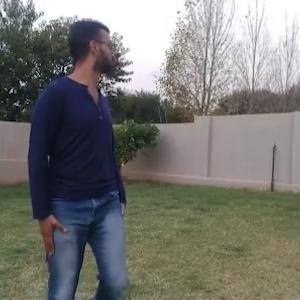follow: (26, 15, 125, 299)
